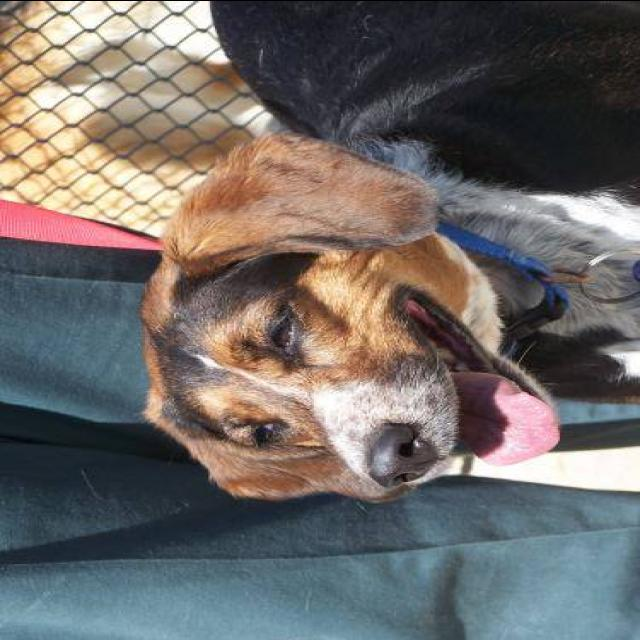dog: (88, 1, 640, 521)
